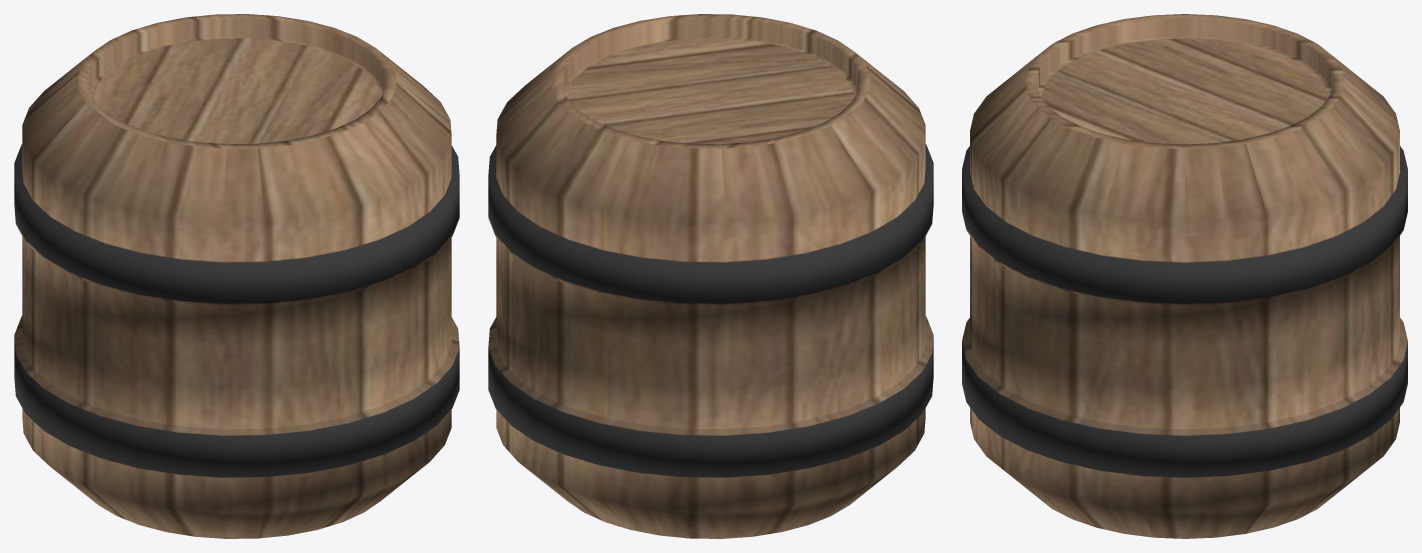
The model's file is Barrel.fbx.
The picture shows the model from 3 angles, left to right: view 1: azimuth 30°, elevation 25°; view 2: azimuth 150°, elevation 25°; view 3: azimuth 270°, elevation 25°; orthographic projection.
Parts seen in each view (by area): view 1: Cylinder; view 2: Cylinder; view 3: Cylinder.
Boxes of the visible parts, x1,y1,x2,y2 form: Cylinder: [14, 14, 459, 538]; Cylinder: [488, 14, 933, 538]; Cylinder: [962, 14, 1407, 538].
Bounding box in the file's own units: 104 × 100 × 104.
